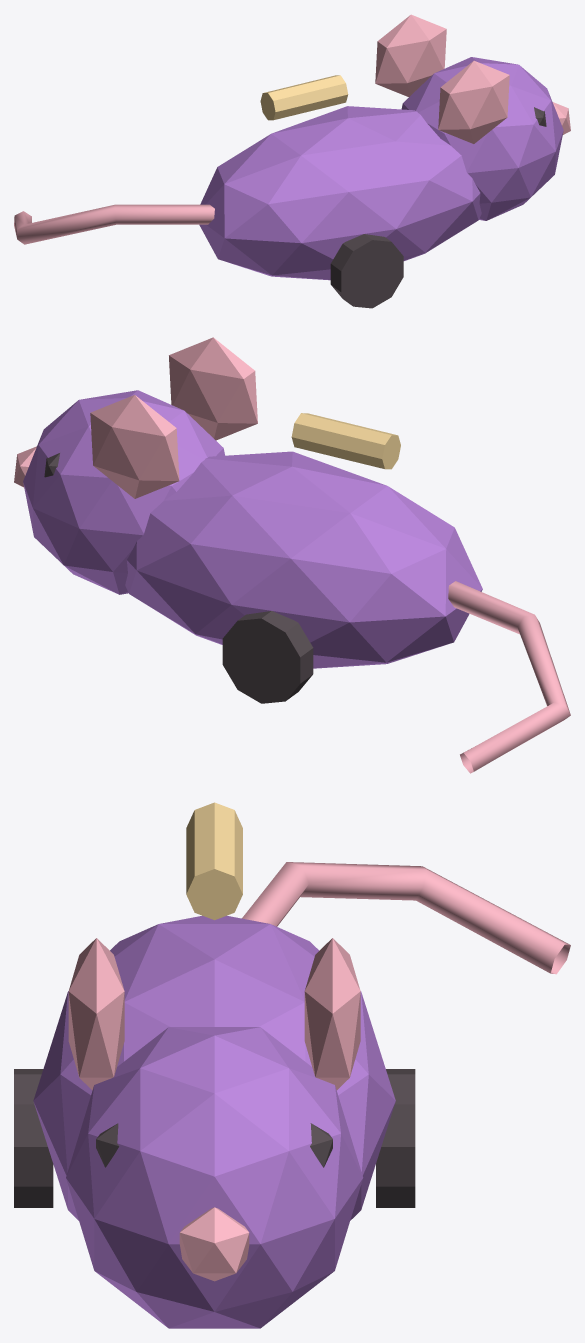
The model's file is ClockworkMouse.fbx.
3 renders of one model, top to bottom at view 1: azimuth 30°, elevation 25°; view 2: azimuth 150°, elevation 25°; view 3: azimuth 270°, elevation 25°, orthographic. The views are drawn at different scales.
Parts seen in each view (by area): view 1: Mouse_Body, Mouse_Head, Mouse_Ear_Left, Mouse_Tail, Mouse_Wheel_Left, Mouse_Ear_Right, Mouse_Key; view 2: Mouse_Body, Mouse_Head, Mouse_Ear_Right, Mouse_Wheel_Right, Mouse_Ear_Left, Mouse_Tail, Mouse_Key; view 3: Mouse_Head, Mouse_Body, Mouse_Tail, Mouse_Ear_Left, Mouse_Ear_Right, Mouse_Key, Mouse_Wheel_Right, Mouse_Wheel_Left, Mouse_Nose, Mouse_Eye_Left, Mouse_Eye_Right.
Part boxes in pixels (x1,y1,x2,y2): Mouse_Body: (199,106,481,280); Mouse_Head: (401,57,563,220); Mouse_Ear_Left: (438,60,509,143); Mouse_Tail: (14,204,214,244); Mouse_Wheel_Left: (330,234,403,308); Mouse_Ear_Right: (375,14,446,96); Mouse_Key: (260,75,348,120); Mouse_Body: (125,451,482,668); Mouse_Head: (23,390,224,594); Mouse_Ear_Right: (90,395,179,498); Mouse_Wheel_Right: (222,611,313,703); Mouse_Ear_Left: (169,337,257,440); Mouse_Tail: (448,581,570,773); Mouse_Key: (291,413,400,469); Mouse_Head: (66,1027,363,1328); Mouse_Body: (33,915,395,1220); Mouse_Tail: (242,862,570,974); Mouse_Ear_Left: (68,938,124,1090); Mouse_Ear_Right: (304,938,360,1090); Mouse_Key: (186,802,242,920); Mouse_Wheel_Right: (376,1069,415,1207); Mouse_Wheel_Left: (14,1069,53,1207); Mouse_Nose: (179,1207,249,1281); Mouse_Eye_Left: (96,1123,119,1167); Mouse_Eye_Right: (310,1123,332,1167).
Size of the model in its own units: 68.46 by 27.42 by 35.4.
